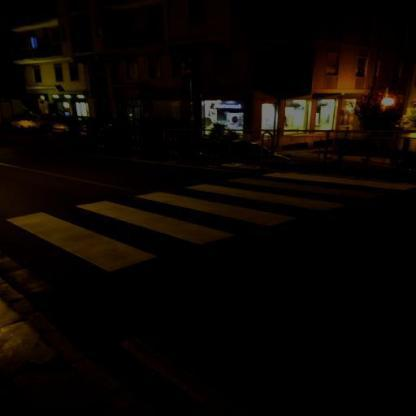crosswalk: (69, 184, 301, 248)
